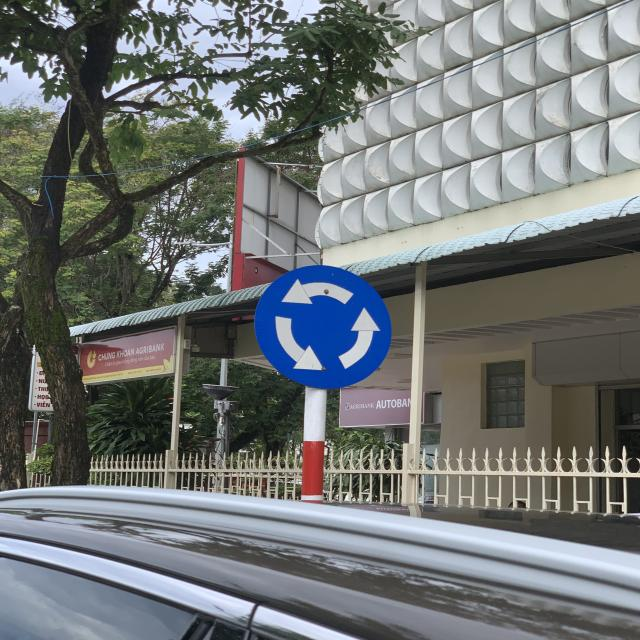Xe_Bus: (254, 266, 395, 389)
